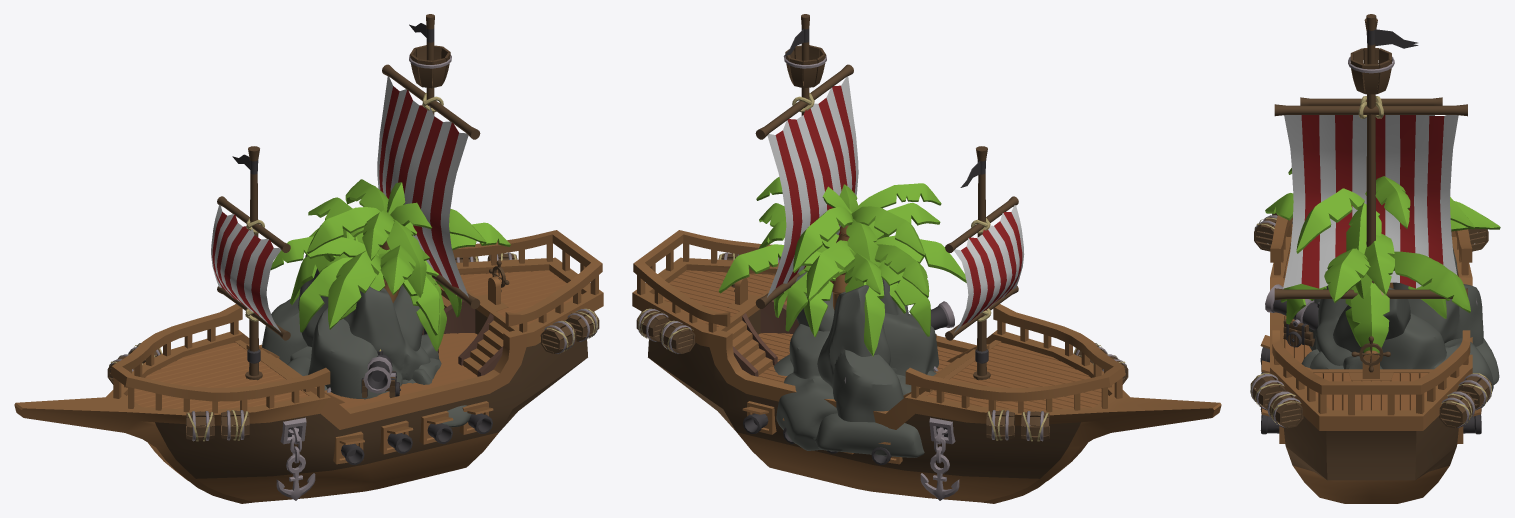
File: pirate_kit.glb
3 renders of one model, left to right at view 1: azimuth 30°, elevation 25°; view 2: azimuth 150°, elevation 25°; view 3: azimuth 270°, elevation 25°, orthographic. The views are drawn at different scales.
Parts seen in each view (by area): view 1: Ship_Large, PalmTree_3, PalmTree_1, Cliff2, Cliff3, PalmTree_2, Cliff4; view 2: Ship_Large, Cliff2, PalmTree_3, PalmTree_1, PalmTree_2; view 3: Ship_Large, PalmTree_2, Cliff2, PalmTree_1, PalmTree_3, Cliff4, Cliff3, Cliff1.
Part boxes in pixels (box(x1,y1,x2,y2)): Ship_Large: box(14, 14, 603, 503); PalmTree_3: box(270, 197, 441, 335); PalmTree_1: box(307, 179, 486, 297); Cliff2: box(262, 254, 381, 399); Cliff3: box(287, 286, 430, 393); PalmTree_2: box(309, 222, 510, 351); Cliff4: box(388, 284, 471, 427); Ship_Large: box(632, 14, 1221, 503); Cliff2: box(774, 285, 938, 457); PalmTree_3: box(759, 221, 966, 356); PalmTree_1: box(756, 177, 941, 310); PalmTree_2: box(718, 202, 940, 337); Ship_Large: box(1250, 14, 1492, 503); PalmTree_2: box(1265, 193, 1470, 353); Cliff2: box(1309, 247, 1499, 407); PalmTree_1: box(1288, 168, 1474, 298); PalmTree_3: box(1280, 201, 1500, 346); Cliff4: box(1301, 287, 1410, 369); Cliff3: box(1309, 286, 1351, 365); Cliff1: box(1310, 351, 1343, 369).
Bounding box in the file's own units: 24.69 × 18.37 × 8.77.
Materials: 1 (1 with a texture image).
